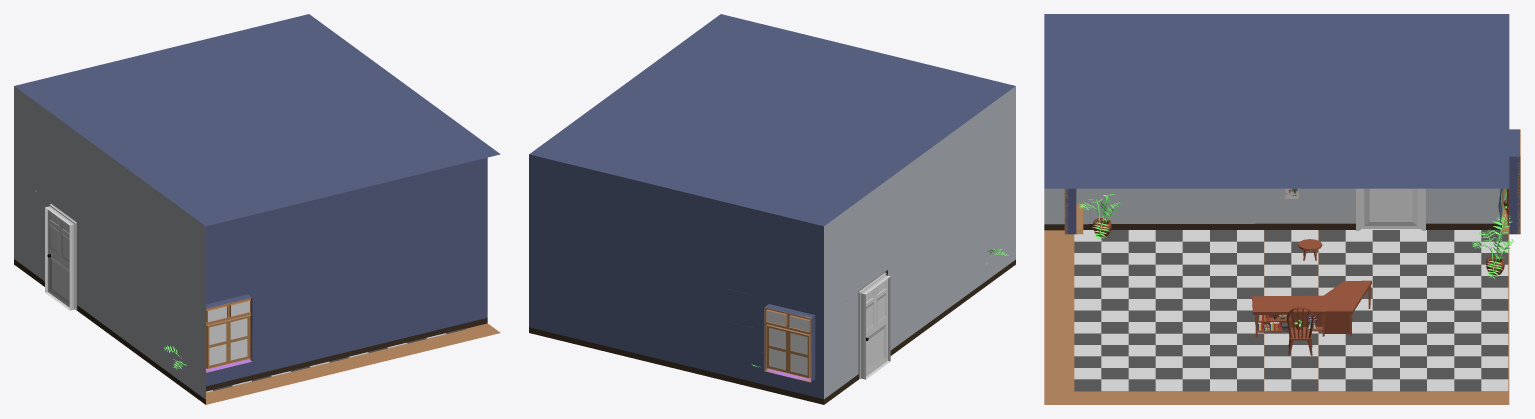
File: zom.fbx
3 renders of one model, left to right at view 1: azimuth 30°, elevation 25°; view 2: azimuth 150°, elevation 25°; view 3: azimuth 270°, elevation 25°, orthographic. The views are drawn at different scales.
Parts seen in each view (by area): view 1: Cube.006, Cube.011, Cube.016, Cube.022, Sphere.005, Plane.002; view 2: Cube.006, Cube.002, Cube.016, Sphere.005; view 3: Cube.006, Plane.002, Cube.016, Cube.022, Cube.008, Sphere.005, Cube.002, Cylinder.008, Cube.011, chair.001, Cylinder.016.
Boxes of the visible parts, x1,y1,x2,y2 form: Cube.006: [14, 14, 500, 226]; Cube.011: [206, 157, 487, 391]; Cube.016: [14, 86, 205, 404]; Cube.022: [206, 323, 500, 404]; Sphere.005: [45, 201, 77, 310]; Plane.002: [76, 309, 465, 392]; Cube.006: [529, 14, 1015, 226]; Cube.002: [529, 154, 823, 404]; Cube.016: [824, 86, 1015, 404]; Sphere.005: [858, 270, 890, 379]; Cube.006: [1044, 14, 1509, 188]; Plane.002: [1074, 230, 1508, 391]; Cube.016: [1044, 188, 1506, 230]; Cube.022: [1044, 230, 1509, 404]; Cube.008: [1252, 280, 1371, 337]; Sphere.005: [1356, 188, 1425, 230]; Cube.002: [1502, 129, 1520, 234]; Cylinder.008: [1472, 214, 1514, 278]; Cube.011: [1064, 188, 1083, 234]; chair.001: [1287, 307, 1313, 355]; Cylinder.016: [1079, 194, 1121, 240].
Bounding box in the file's own units: 510 × 282 × 561.
